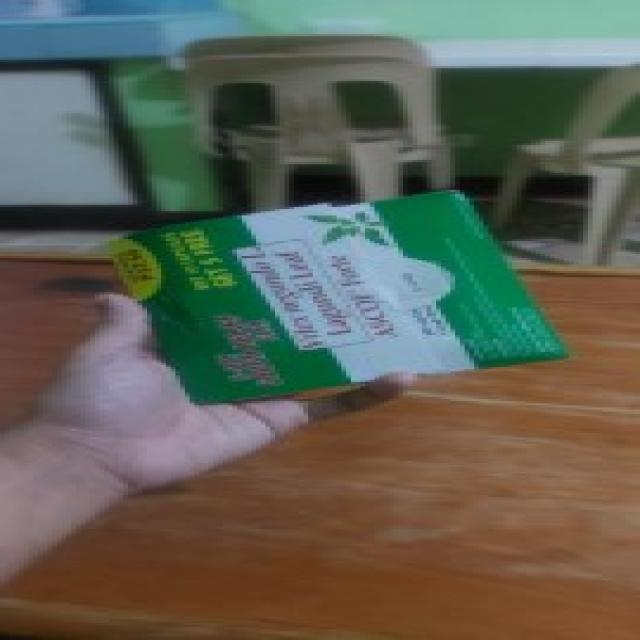Cacat: (108, 197, 571, 411)
